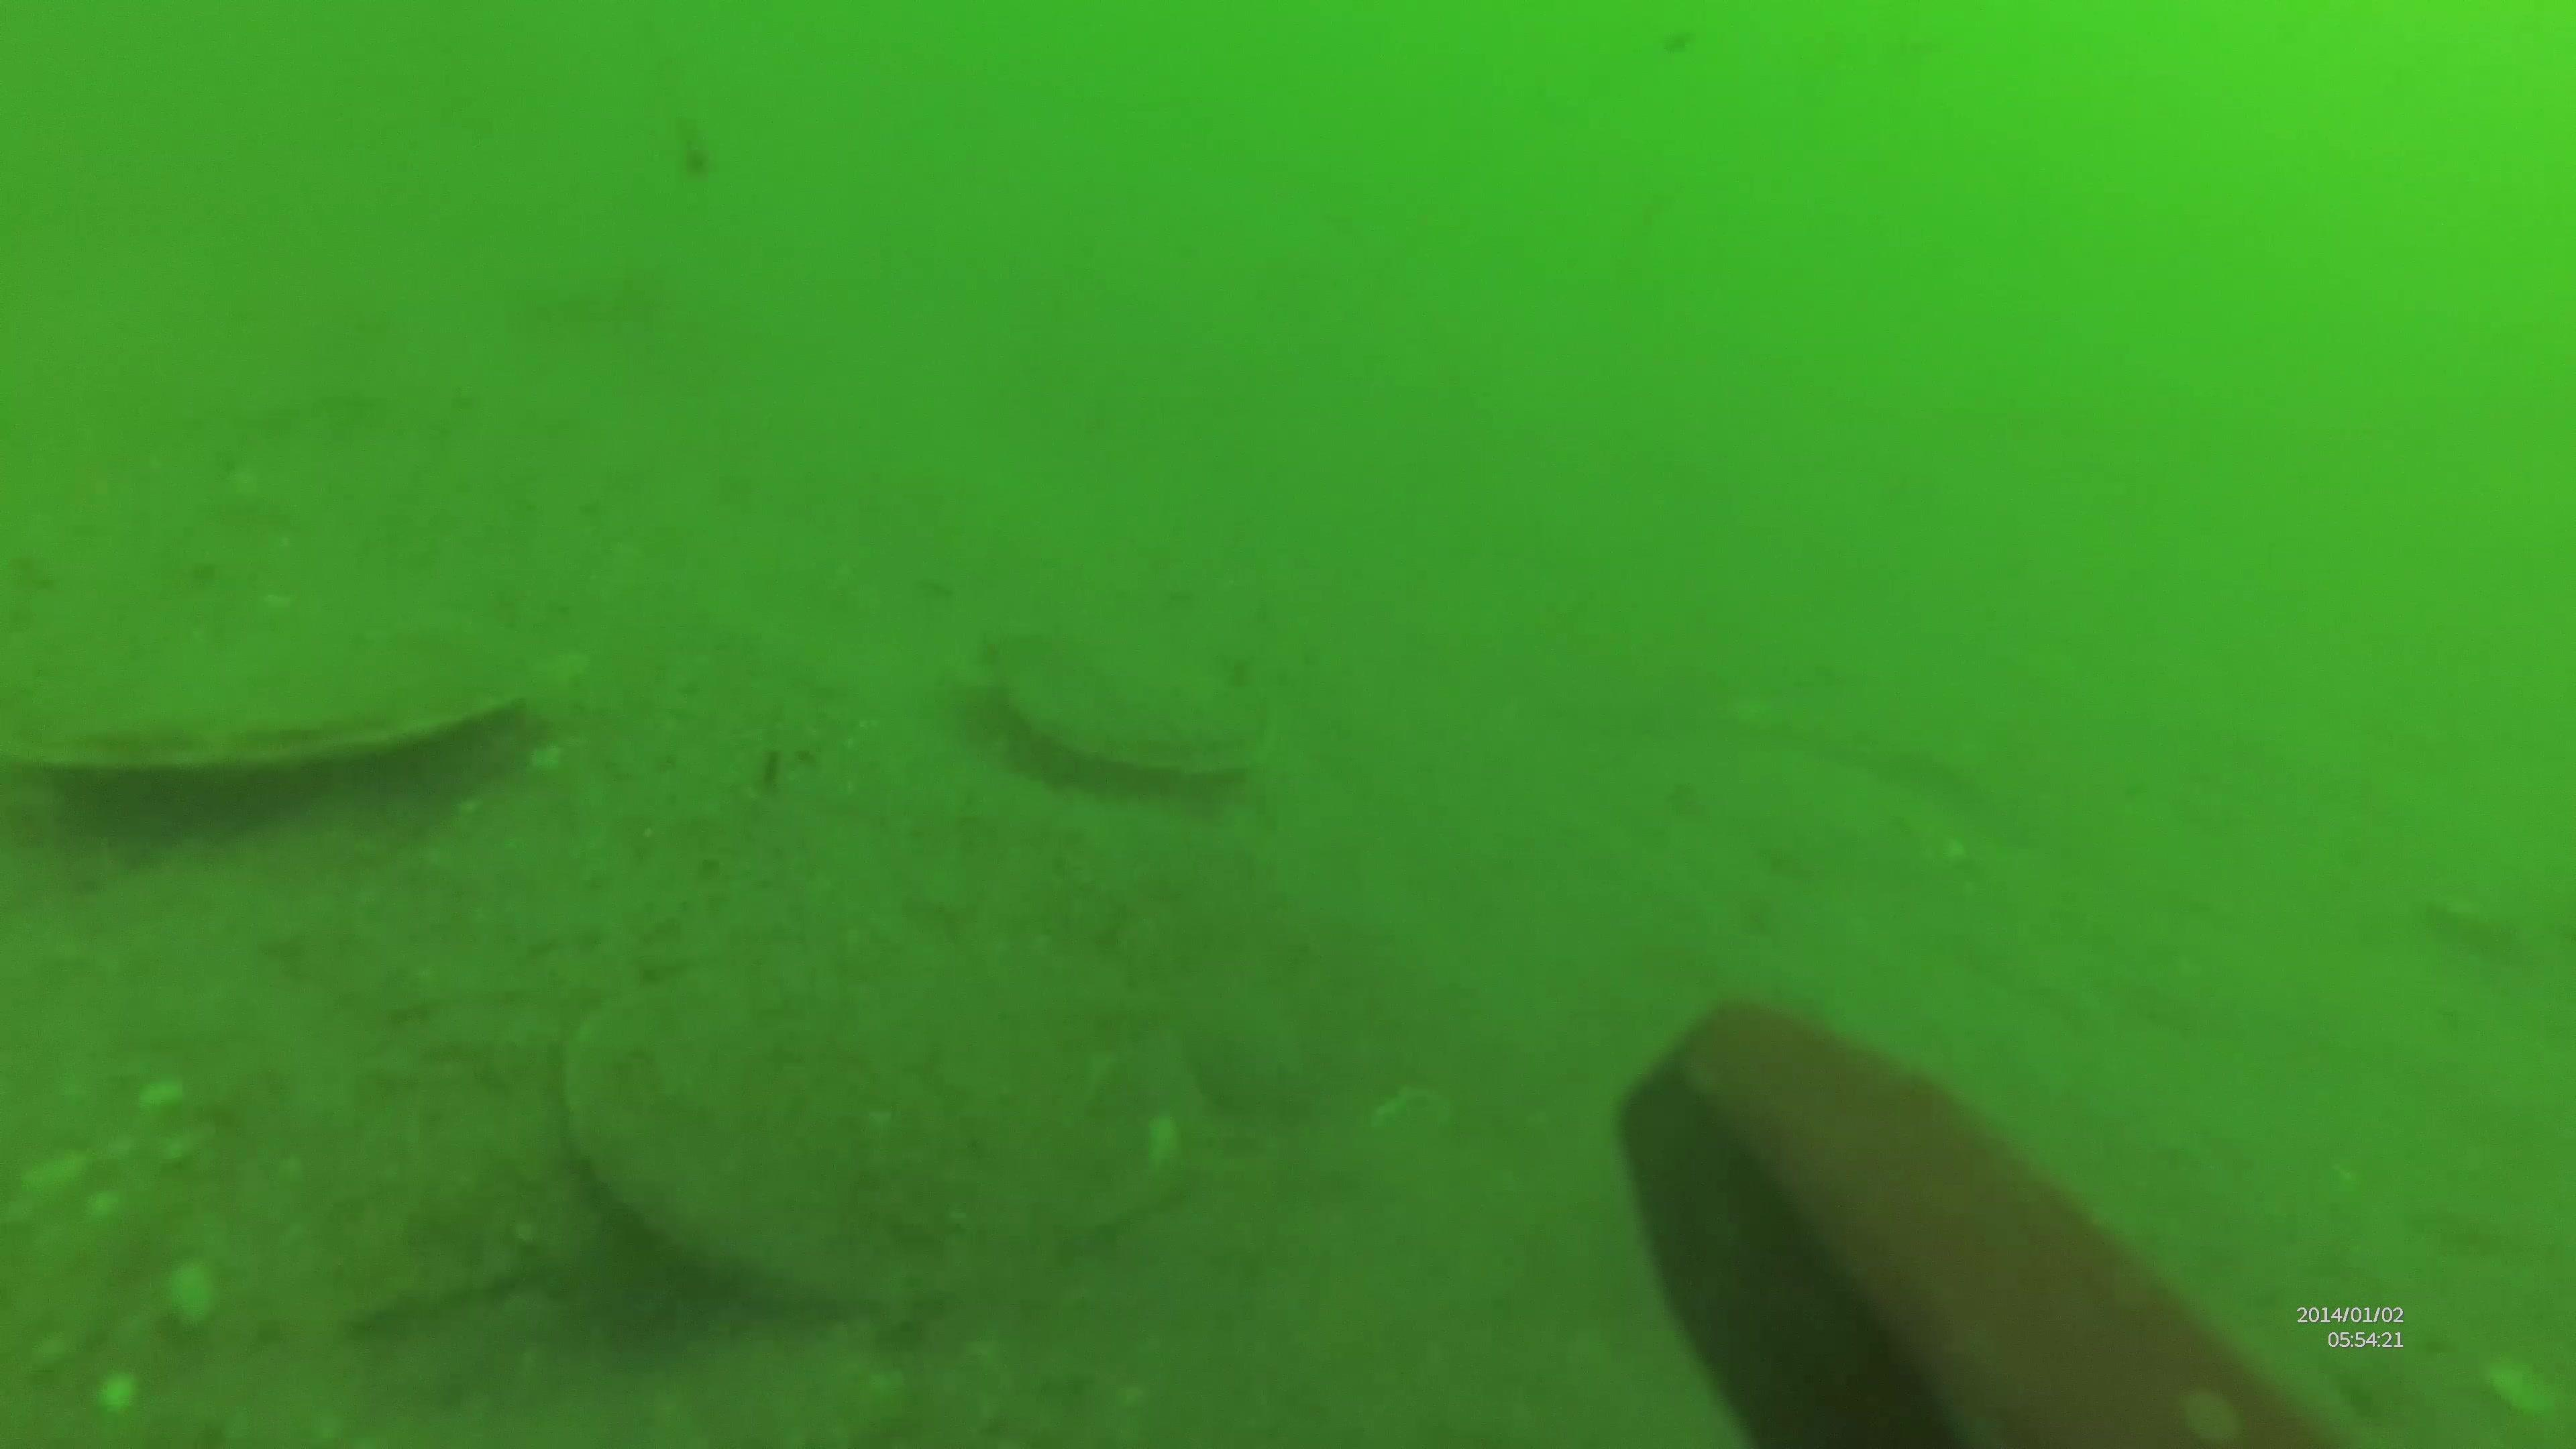scallop: (559, 943, 1212, 1322), (0, 602, 593, 824), (982, 612, 1269, 786)
